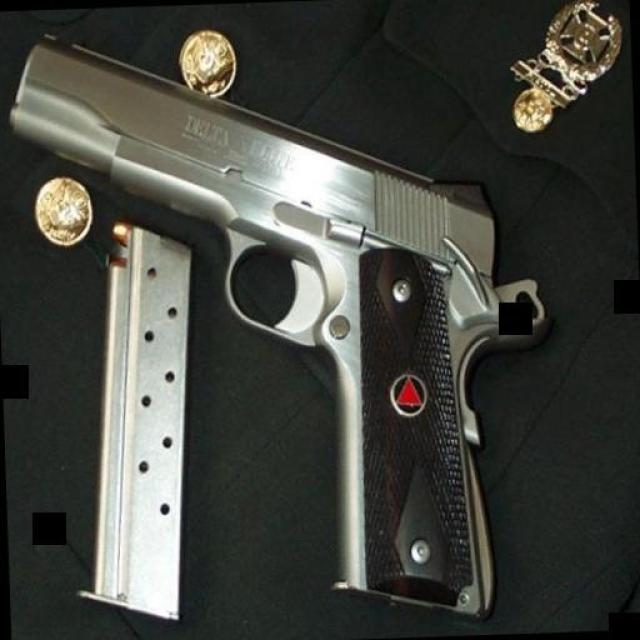gun: (0, 7, 559, 634)
